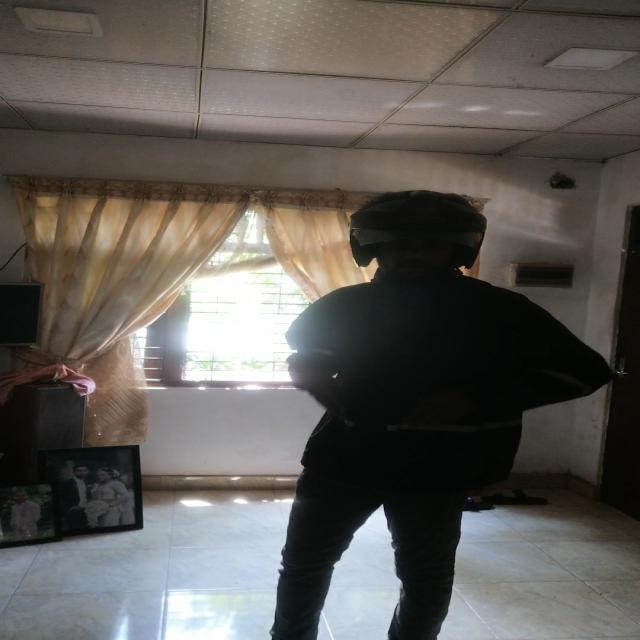Helmet_Wearer: (341, 188, 490, 288)
Jacket_Wearer: (281, 278, 621, 508)
Person: (265, 190, 624, 640)
